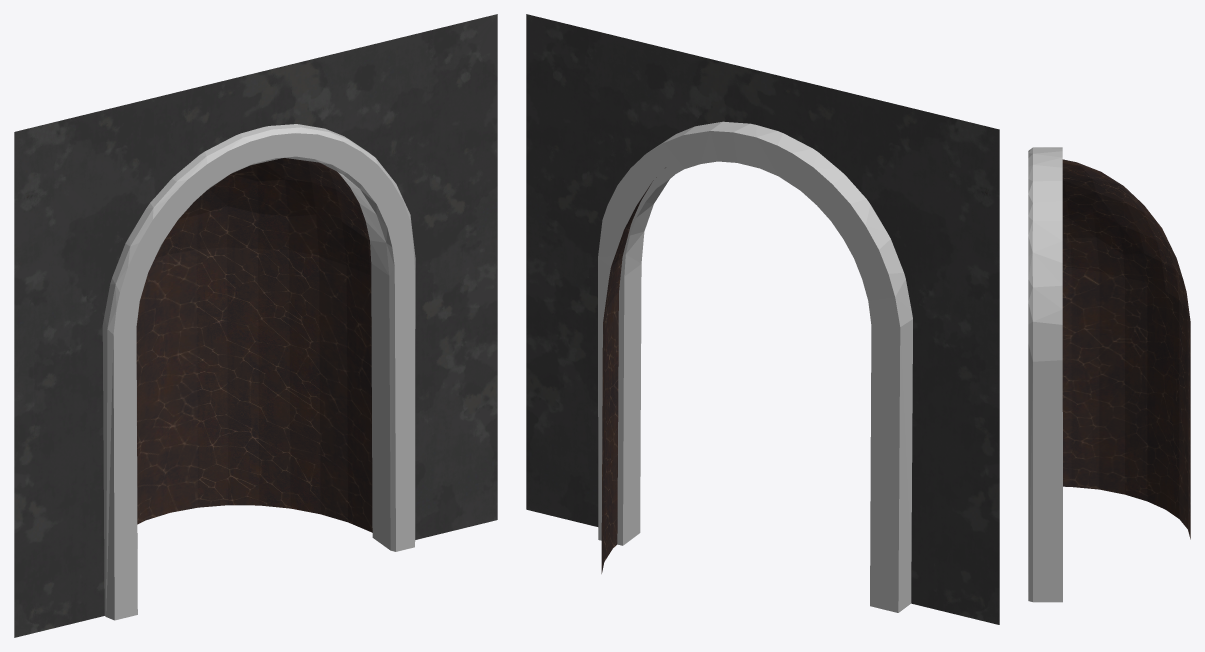
Rendered from AlcoveArchway_02_Lod1.fbx.
3 views of the same model, side by side, from view 1: azimuth 30°, elevation 25°; view 2: azimuth 150°, elevation 25°; view 3: azimuth 270°, elevation 25° (orthographic). The views are drawn at different scales.
Visible parts, largest first — view 1: S_Sunforged_AlcoveArchway_02_Lod1.mo; view 2: S_Sunforged_AlcoveArchway_02_Lod1.mo; view 3: S_Sunforged_AlcoveArchway_02_Lod1.mo.
Boxes of the visible parts, x1,y1,x2,y2 form: S_Sunforged_AlcoveArchway_02_Lod1.mo: [14, 14, 497, 637]; S_Sunforged_AlcoveArchway_02_Lod1.mo: [526, 14, 999, 624]; S_Sunforged_AlcoveArchway_02_Lod1.mo: [1028, 147, 1190, 602].
Bounding box in the file's own units: 1080 × 1080 × 374.
